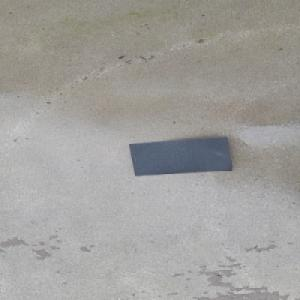PaintChip: (129, 135, 233, 176)
